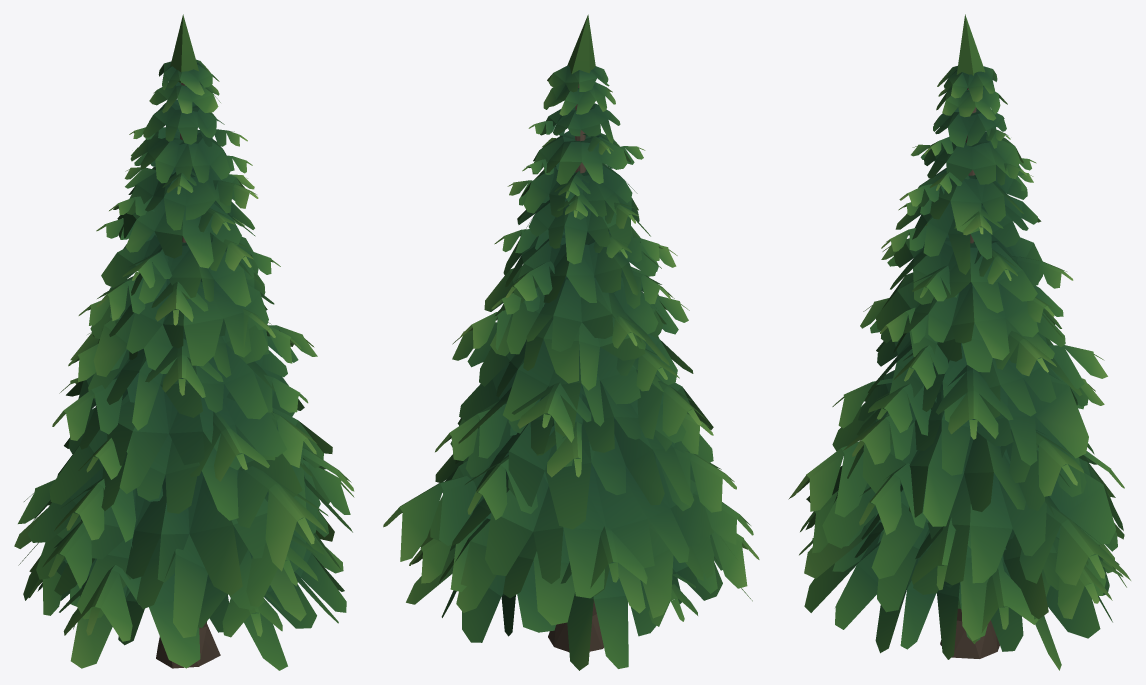
The model's file is spruce_M_normal_std_dense_s13.glb.
3 renders of one model, left to right at view 1: azimuth 30°, elevation 25°; view 2: azimuth 150°, elevation 25°; view 3: azimuth 270°, elevation 25°, orthographic. The views are drawn at different scales.
Visible parts, largest first — view 1: Tree; view 2: Tree; view 3: Tree.
Part boxes in pixels (x1,y1,x2,y2): Tree: [14, 14, 354, 670]; Tree: [383, 14, 759, 670]; Tree: [788, 14, 1130, 670].
Size of what is drawn, in the model's own units: 3.01 by 5.97 by 2.96.
